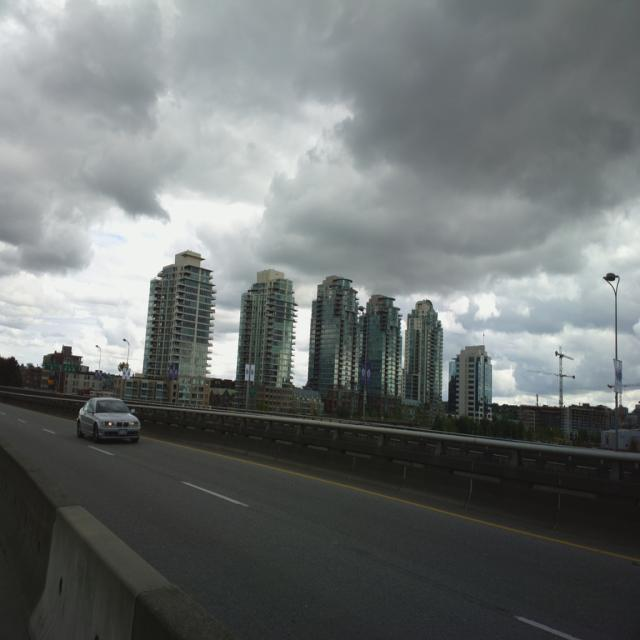car: (74, 393, 141, 440)
